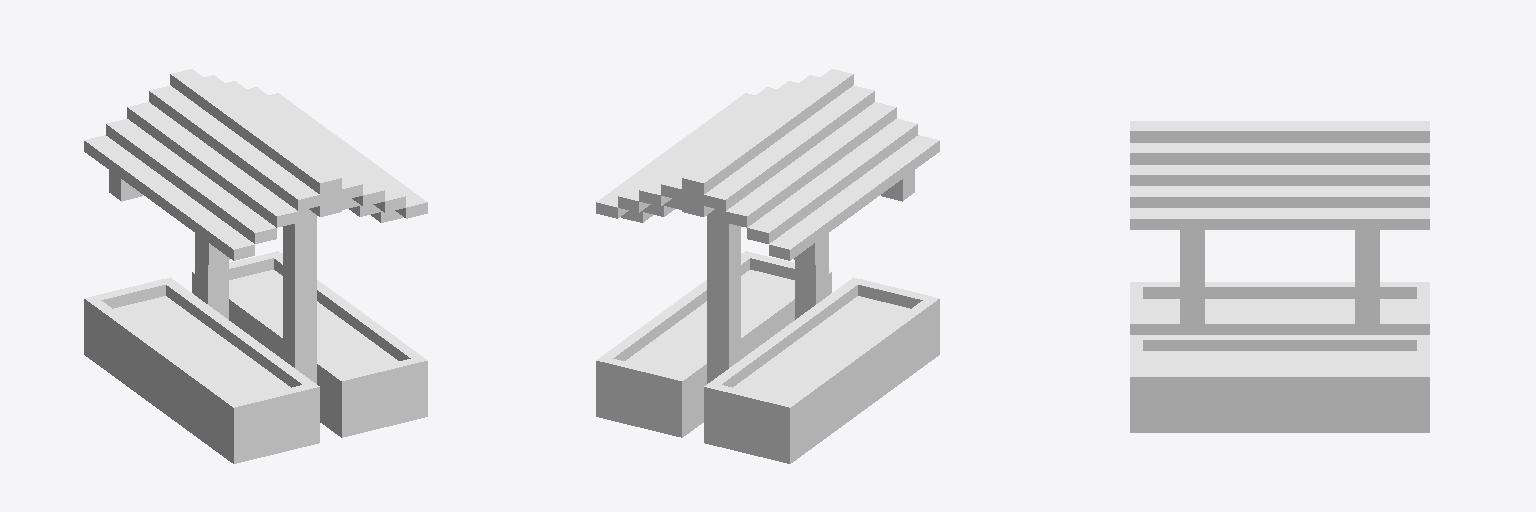
File: Animals_Food.obj
3 renders of one model, left to right at view 1: azimuth 30°, elevation 25°; view 2: azimuth 150°, elevation 25°; view 3: azimuth 270°, elevation 25°, orthographic.
Parts seen in each view (by area): view 1: Chicken_Male; view 2: Chicken_Male; view 3: Chicken_Male.
Boxes of the visible parts, x1,y1,x2,y2 form: Chicken_Male: [84, 69, 427, 463]; Chicken_Male: [596, 69, 939, 463]; Chicken_Male: [1130, 121, 1429, 432].
Size of the model in its own units: 18 by 23 by 24.